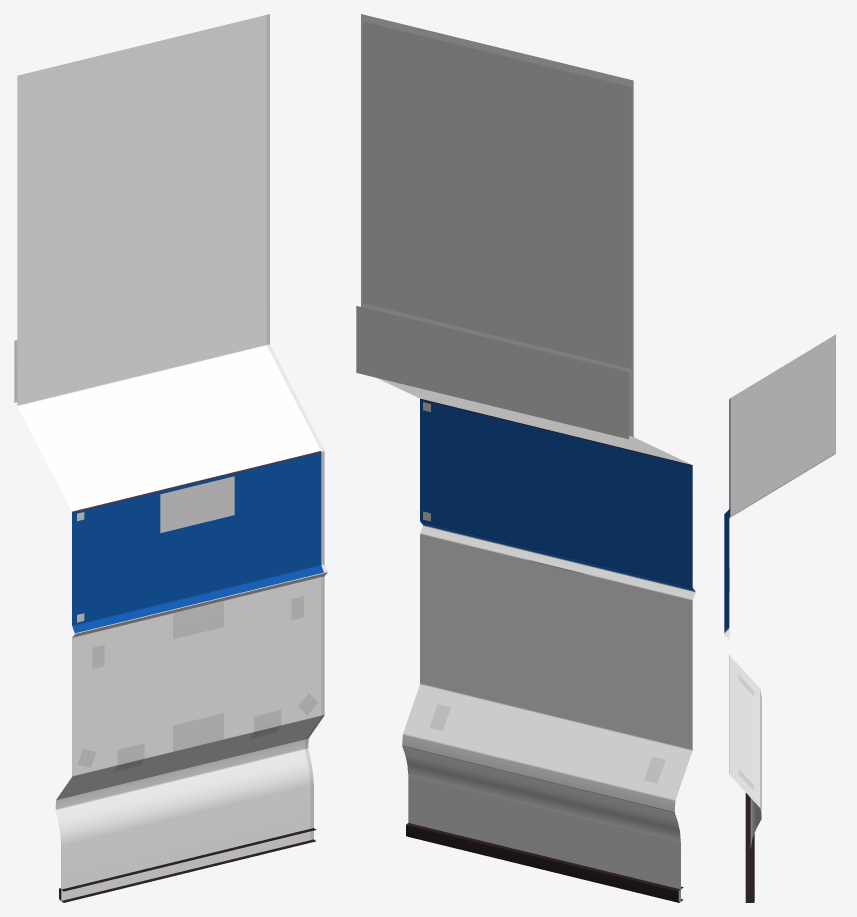
Rendered from SingleWall.fbx.
3 renders of one model, left to right at view 1: azimuth 30°, elevation 25°; view 2: azimuth 150°, elevation 25°; view 3: azimuth 270°, elevation 25°, orthographic. The views are drawn at different scales.
Visible parts, largest first — view 1: Cube.042, Cube.040; view 2: Cube.042, StylizedHardSurface_TrimDecals_006.003_projected.003, StylizedHardSurface_TrimDecals_003.004, Cube.040; view 3: Cube.042, Cube.040.
Part boxes in pixels (x1=…): Cube.042: x1=17, y1=15, x2=323, y2=900; Cube.040: x1=59, y1=14, x2=327, y2=902; Cube.042: x1=361, y1=14, x2=695, y2=901; StylizedHardSurface_TrimDecals_006.003_projected.003: x1=363, y1=21, x2=631, y2=368; StylizedHardSurface_TrimDecals_003.004: x1=356, y1=306, x2=628, y2=439; Cube.040: x1=406, y1=560, x2=683, y2=902; Cube.042: x1=724, y1=334, x2=835, y2=846; Cube.040: x1=724, y1=452, x2=835, y2=902.
Bounding box in the file's own units: 201 × 600 × 83.76.
